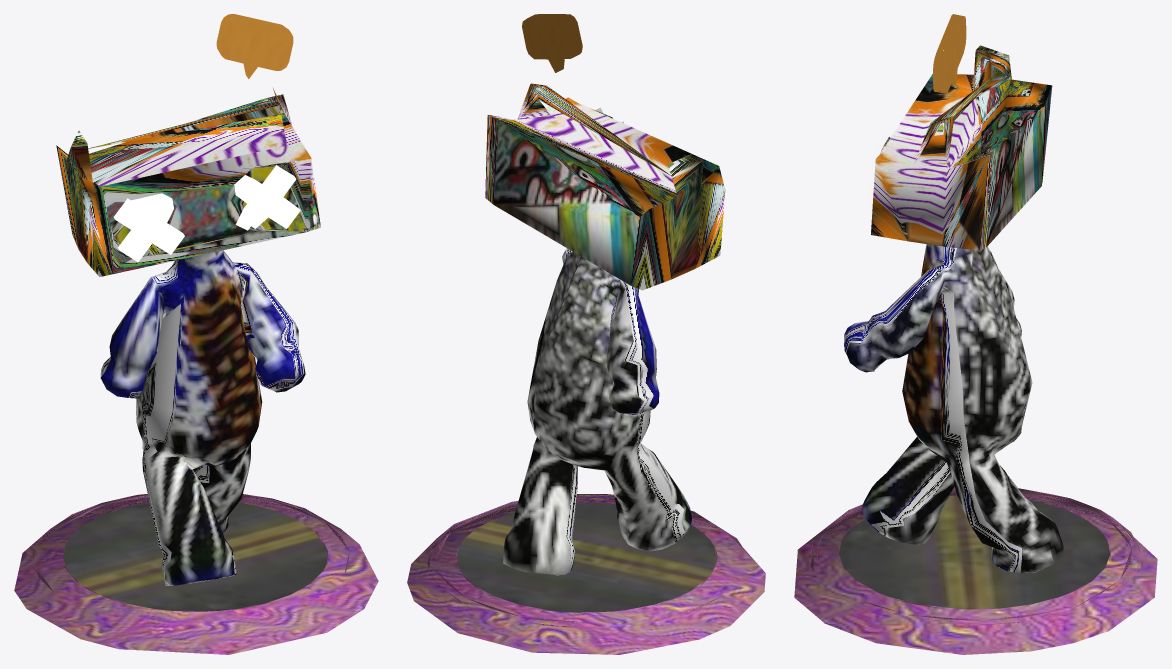
3 views of the same model, side by side, from view 1: azimuth 30°, elevation 25°; view 2: azimuth 150°, elevation 25°; view 3: azimuth 270°, elevation 25° (orthographic). The views are drawn at different scales.
Bounding box in the file's own units: 1.44 × 2.45 × 1.4.
6 materials, 5 textured.
